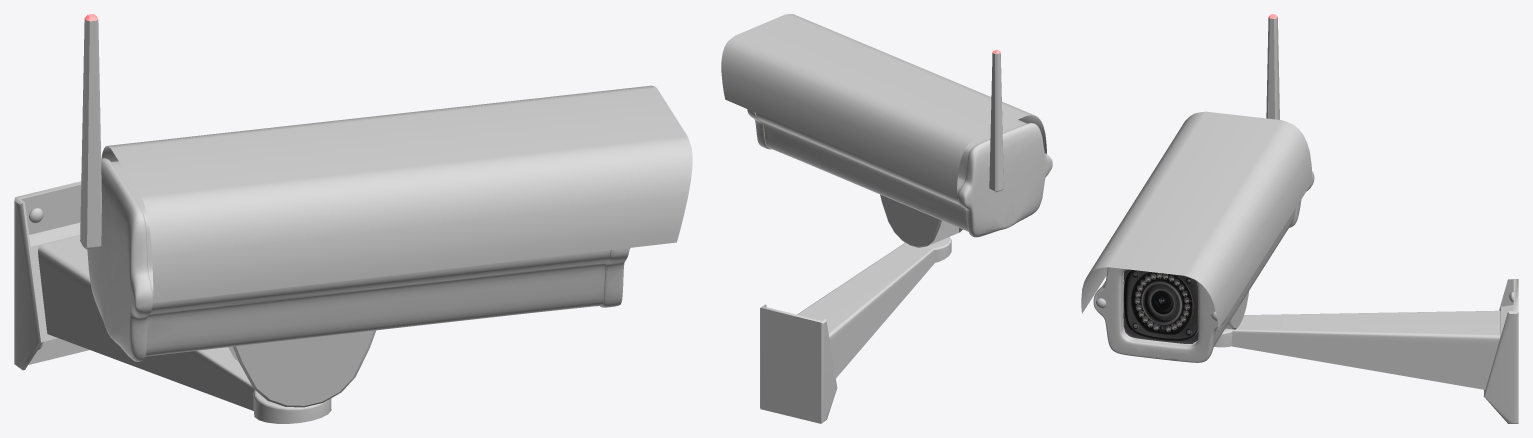
File: security-camera.glb
The picture shows the model from 3 angles, left to right: view 1: azimuth 30°, elevation 25°; view 2: azimuth 150°, elevation 25°; view 3: azimuth 270°, elevation 25°; orthographic projection. The views are drawn at different scales.
Visible parts, largest first — view 1: SecurityCameraBase_Team3_Sanchez_SecurityCameraBase_0; view 2: SecurityCameraBase_Team3_Sanchez_SecurityCameraBase_0; view 3: SecurityCameraBase_Team3_Sanchez_SecurityCameraBase_0, SecurityCamera_Team3_Sanchez_SecuruityCameraLens_0.
Part boxes in pixels (x1,y1,x2,y2): SecurityCameraBase_Team3_Sanchez_SecurityCameraBase_0: (14, 18, 692, 423); SecurityCameraBase_Team3_Sanchez_SecurityCameraBase_0: (721, 14, 1052, 423); SecurityCameraBase_Team3_Sanchez_SecurityCameraBase_0: (1081, 17, 1518, 423); SecurityCamera_Team3_Sanchez_SecuruityCameraLens_0: (1123, 269, 1198, 343).
Size of the model in its own units: 10.17 by 9.37 by 10.89.
5 materials, 1 textured.
